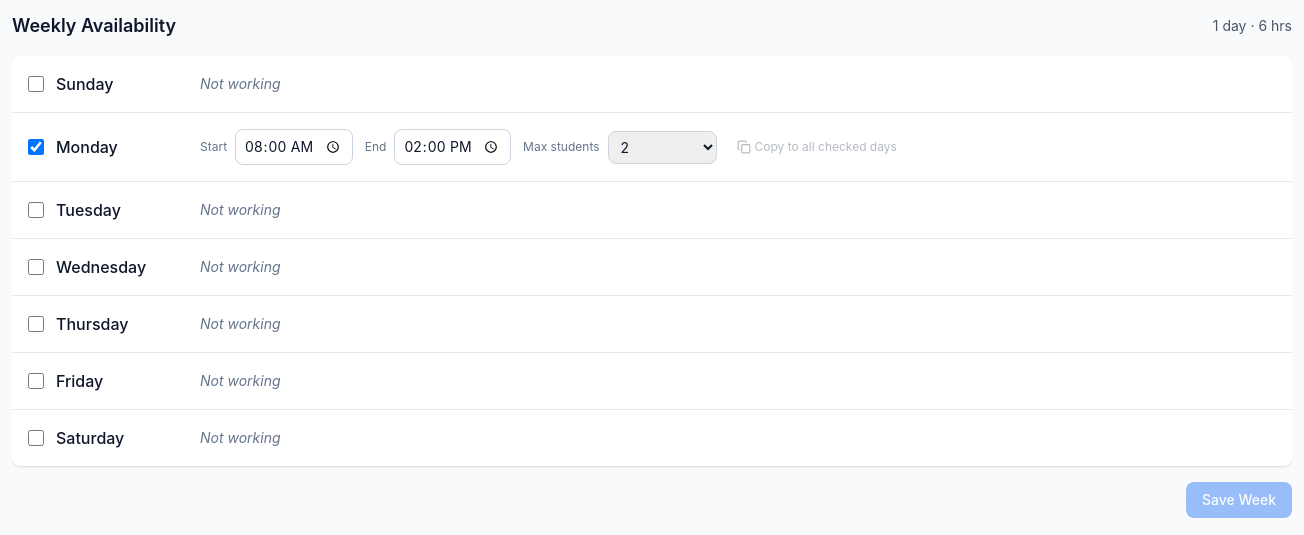
it: WeeklyAvailabilityGrid - unchecking restores previous times in-session › unchecking a day collapses it, and re-checking within the session restores its times
Click the checkbox named "Monday works this day": x=36, y=147 left=28, top=139, right=44, bottom=155
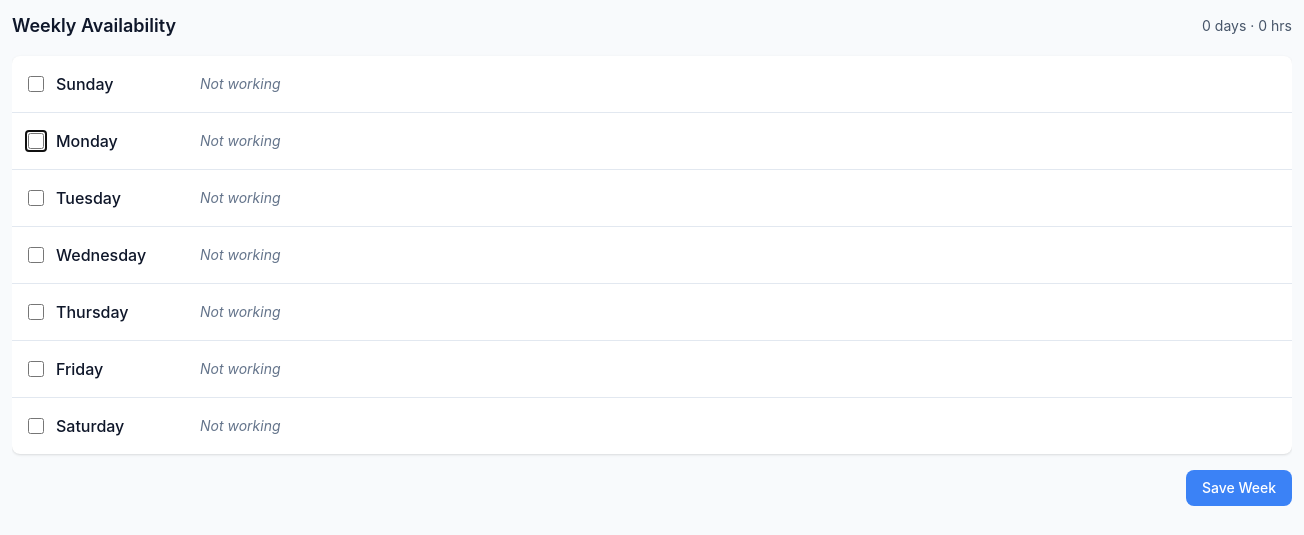
Check: the checkbox named "Monday works this day" is not checked
Check: the text "Not working" is shown 7 times
Click the checkbox named "Monday works this day": x=36, y=141 left=28, top=133, right=44, bottom=149
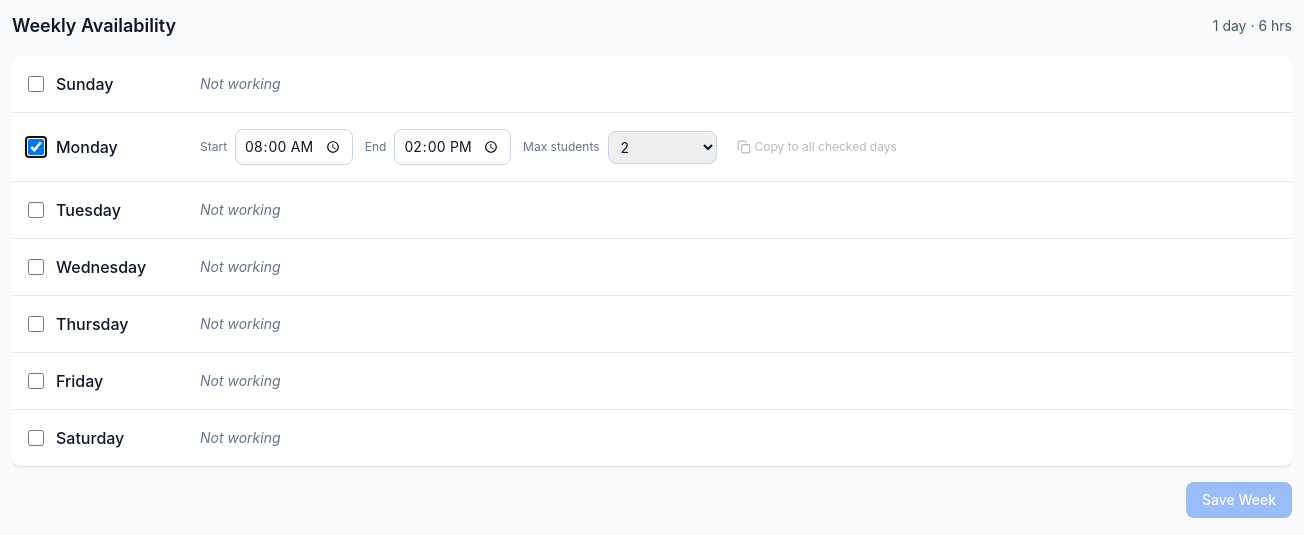
Check: the checkbox named "Monday works this day" is checked, box left=28, top=139, right=44, bottom=155
Check: the time field labelled "Start" holds "08:00", box left=235, top=129, right=353, bottom=165
Check: the time field labelled "End" holds "14:00", box left=394, top=129, right=511, bottom=165
